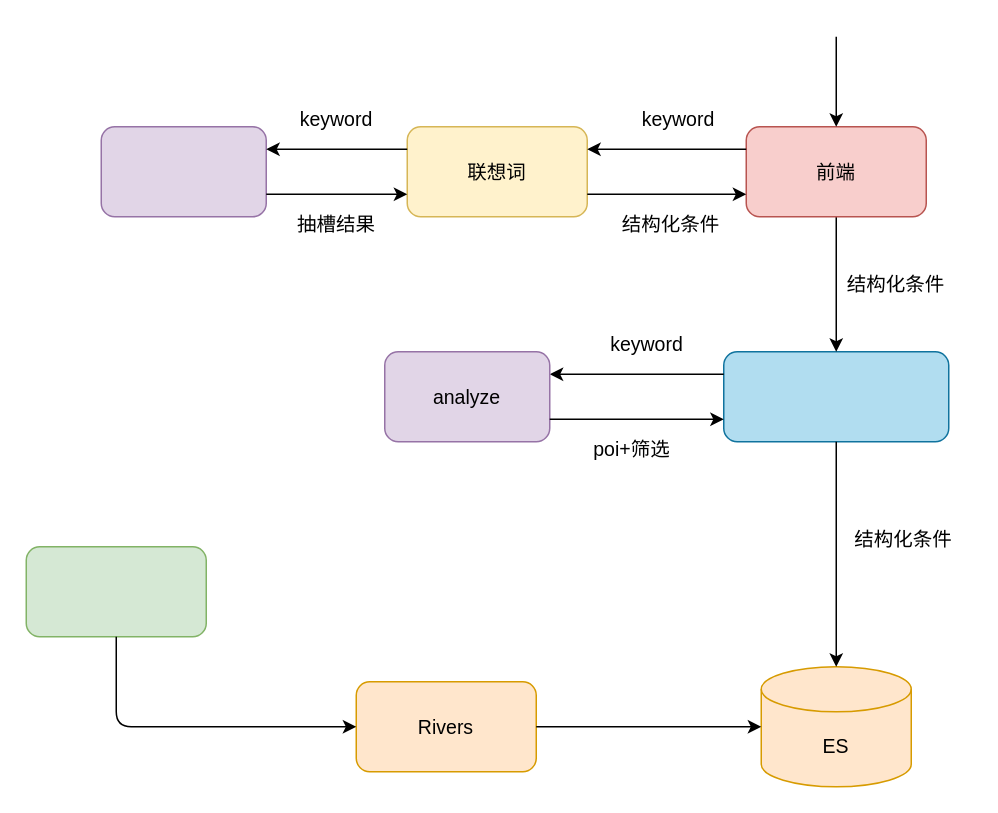
Image size: 998x813. Some labels were removed from this diagram. Here are the shapes that lost their labels. From the top down, the box of each, then its label:
(100, 125, 266, 217): llmAnalyze
(722, 350, 949, 442): 搜索引擎
(25, 545, 206, 637): 商品系统
